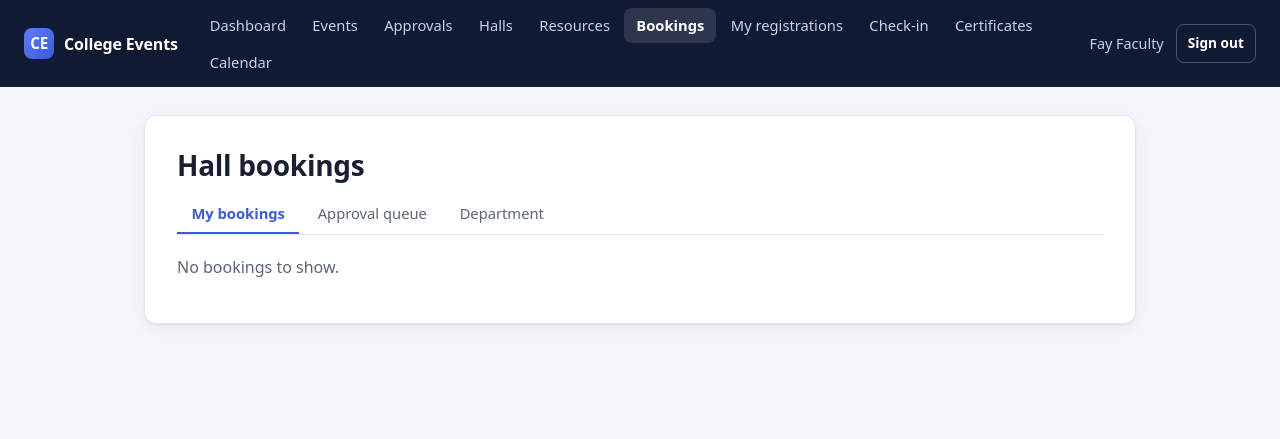
Test: bookings list › gives approvers a queue
The image size is (1280, 439).
Click the tab "Approval queue".
click(372, 214)  # box [303, 195, 441, 234]
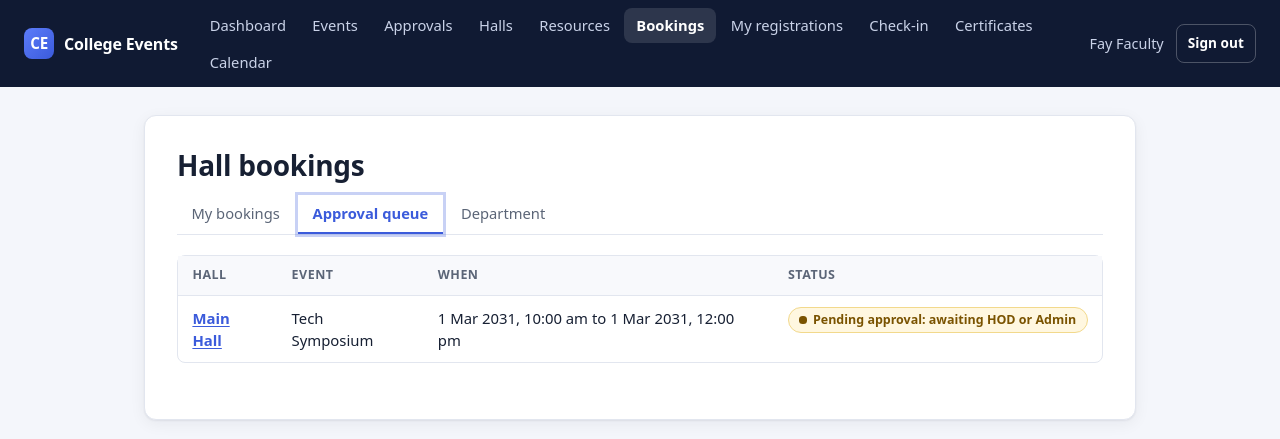
Check: the text "Pending approval: awaiting HOD or Admin" is shown, box [788, 307, 1088, 333]
